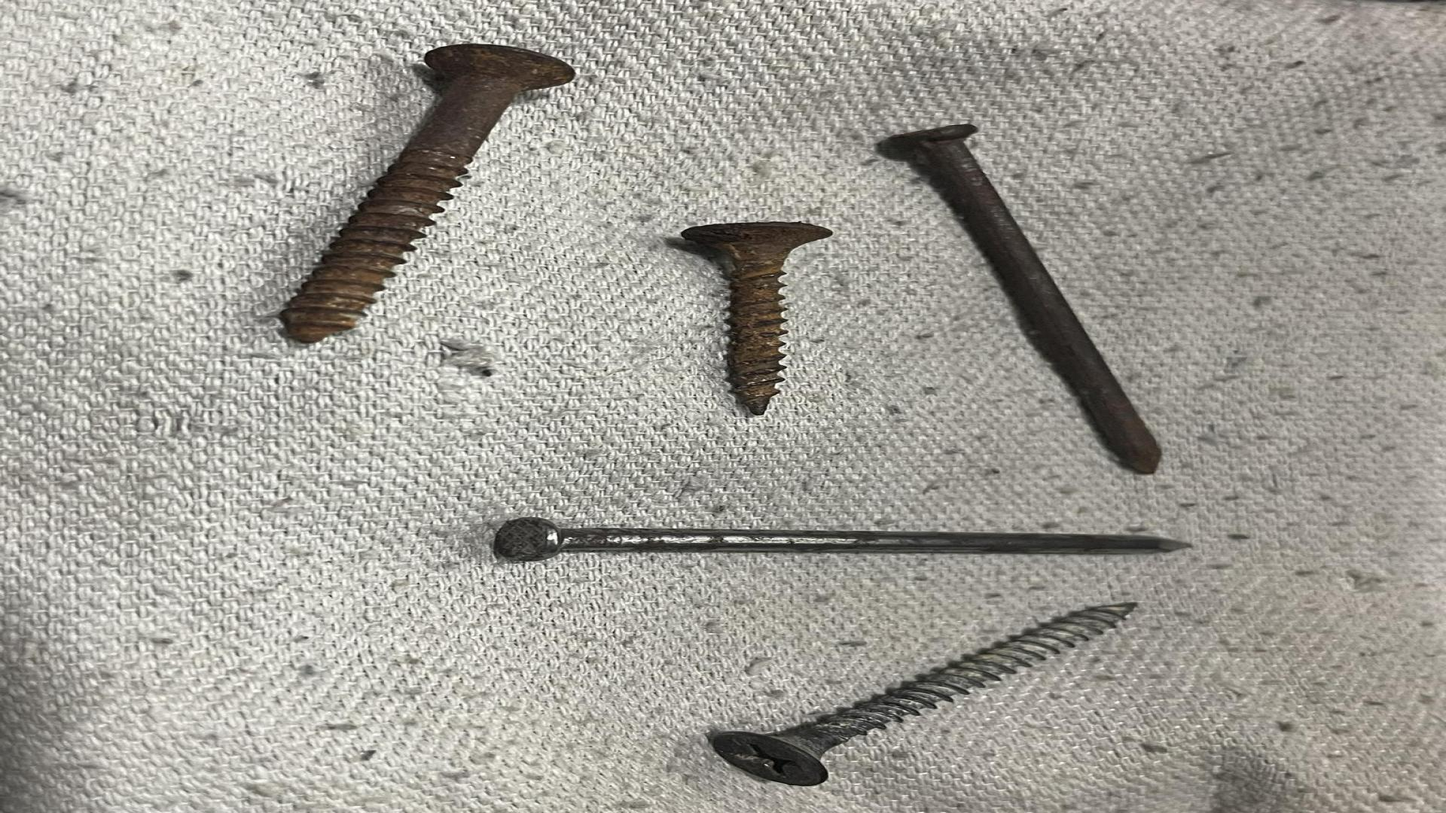nail: (844, 105, 1233, 487), (424, 511, 1246, 581)
screw: (204, 26, 593, 370), (631, 601, 1168, 795), (646, 217, 844, 429)
